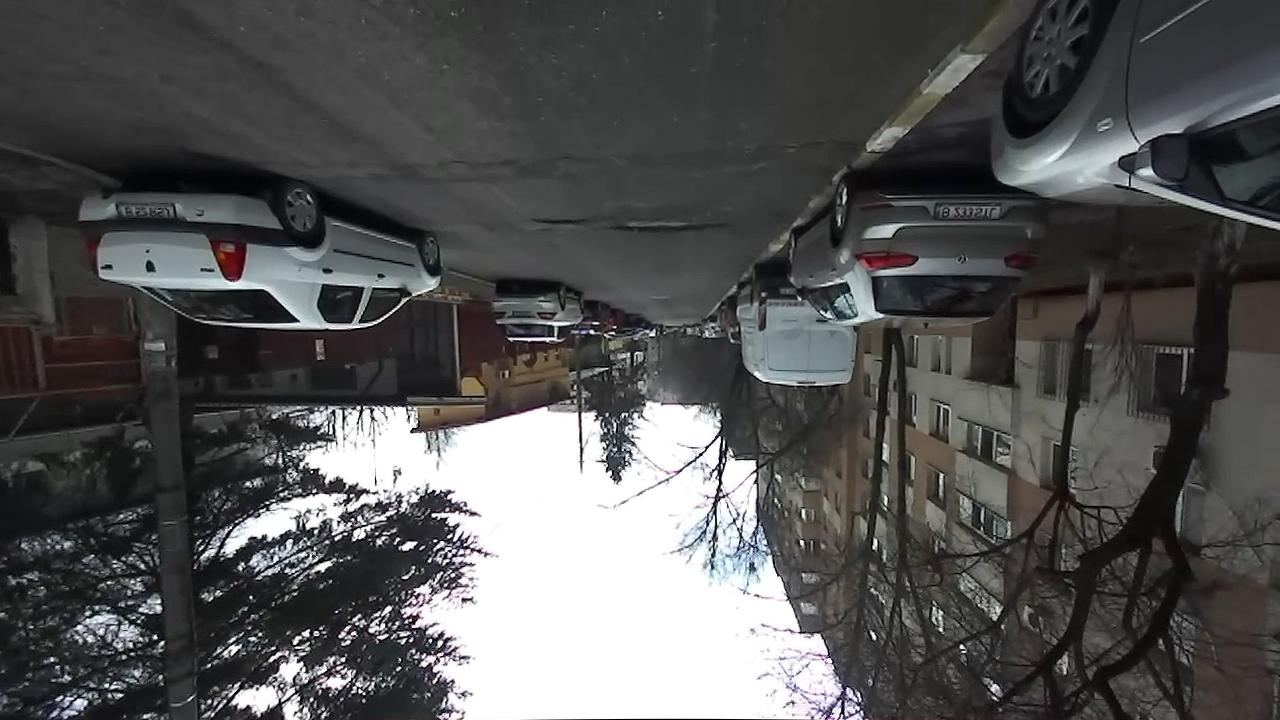pothole: (605, 214, 730, 235), (528, 213, 591, 226)
